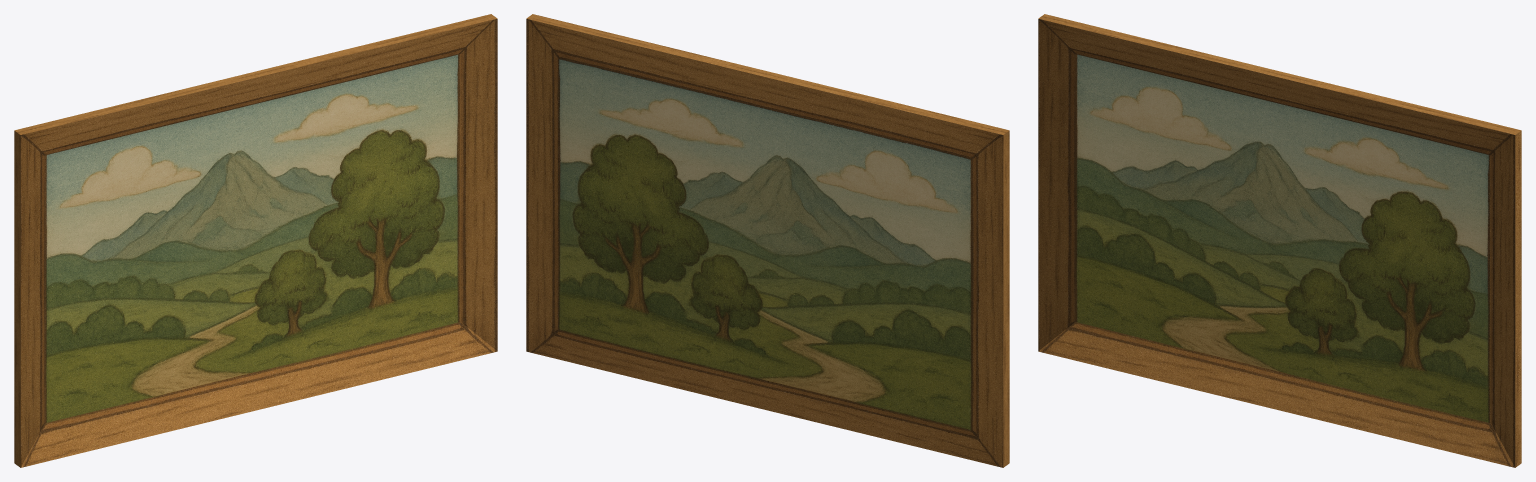
The model's file is wallPaintingWide.fbx.
3 renders of one model, left to right at view 1: azimuth 30°, elevation 25°; view 2: azimuth 150°, elevation 25°; view 3: azimuth 330°, elevation 25°, orthographic.
Visible parts, largest first — view 1: wallPainting; view 2: wallPainting; view 3: wallPainting.
Boxes of the visible parts, x1,y1,x2,y2 form: wallPainting: (14, 14, 497, 467); wallPainting: (526, 14, 1009, 467); wallPainting: (1038, 14, 1521, 467).
Size of the model in its own units: 150 by 100 by 3.52.
